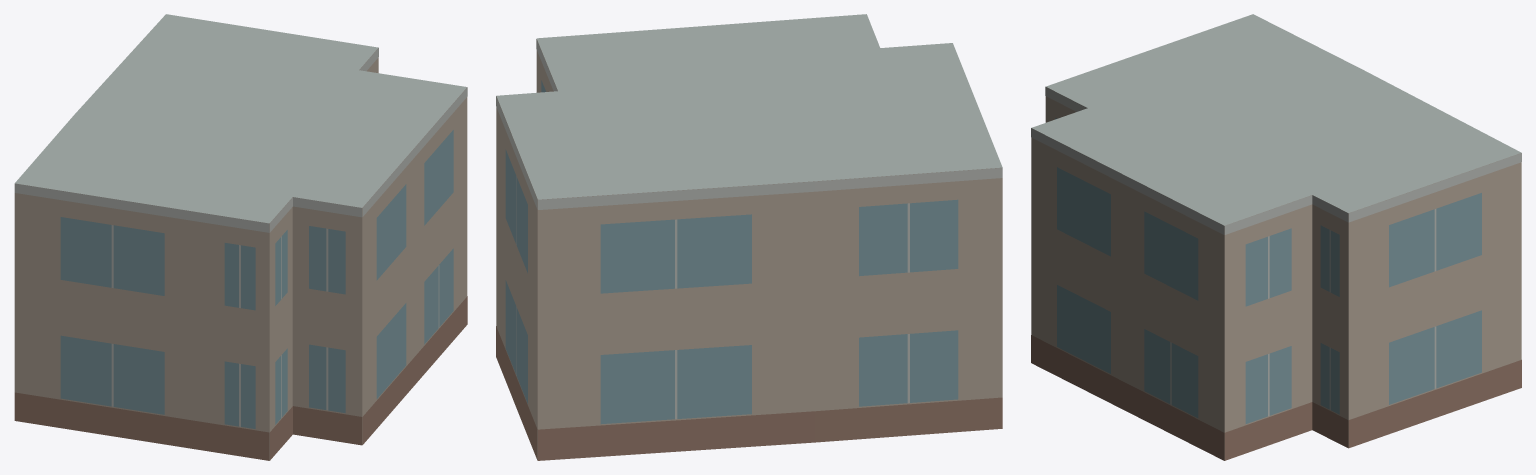
The model's file is survey-upis-32967364.glb.
The picture shows the model from 3 angles, left to right: view 1: azimuth 30°, elevation 25°; view 2: azimuth 150°, elevation 25°; view 3: azimuth 270°, elevation 25°; orthographic projection. The views are drawn at different scales.
Parts seen in each view (by area): view 1: survey-upis-32967364.tmp; view 2: survey-upis-32967364.tmp; view 3: survey-upis-32967364.tmp.
Boxes of the visible parts, bbox=[...] form: survey-upis-32967364.tmp: bbox=[14, 14, 467, 460]; survey-upis-32967364.tmp: bbox=[496, 14, 1002, 460]; survey-upis-32967364.tmp: bbox=[1031, 14, 1521, 460].
Size of the model in its own units: 11.8 by 6.1 by 11.55.
